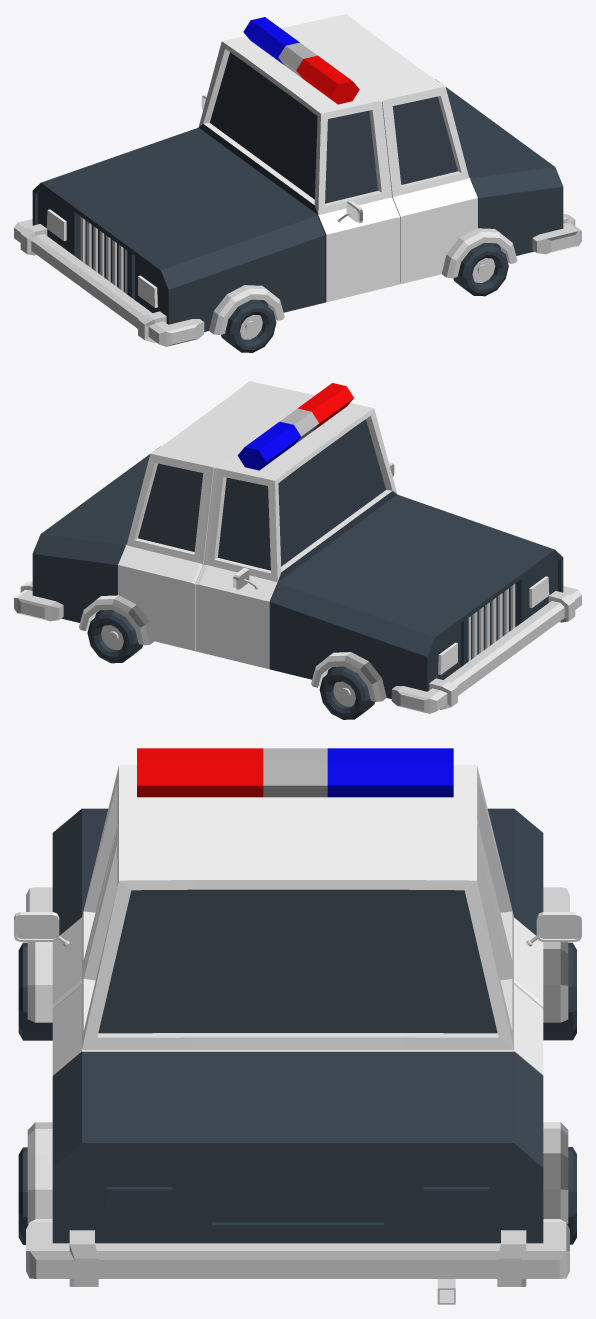
Rendered from police_car.fbx.
The picture shows the model from 3 angles, top to bottom: view 1: azimuth 30°, elevation 25°; view 2: azimuth 150°, elevation 25°; view 3: azimuth 270°, elevation 25°; orthographic projection. The views are drawn at different scales.
Parts seen in each view (by area): view 1: police_car; view 2: police_car; view 3: police_car.
Boxes of the visible parts, box(x1,y1,x2,y2) form: police_car: box(14, 14, 581, 352); police_car: box(14, 381, 581, 719); police_car: box(14, 748, 581, 1304).
Bounding box in the file's own units: 350 × 169 × 222.
Materials: 1 (1 with a texture image).
